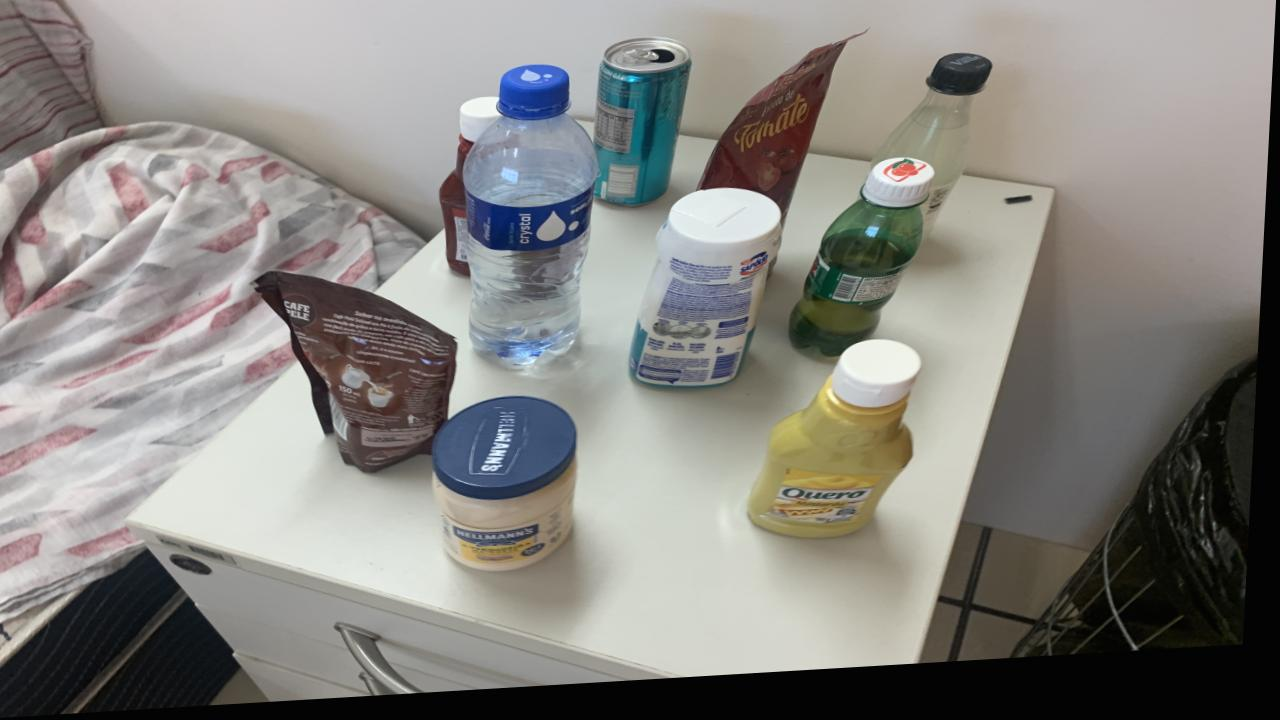Cleaner-Cleanup_Items: (633, 198, 782, 399)
Coffee-Pantry_Items: (258, 275, 460, 477)
Guarana-Drinks: (794, 169, 938, 367)
Ketchup-Pantry_Items: (441, 103, 502, 281)
Mayonnaise-Pantry_Items: (438, 402, 582, 578)
Mustard-Pantry_Items: (752, 350, 926, 549)
Soda-Drinks: (874, 65, 993, 249)
Tea-Drinks: (595, 46, 693, 214)
Tomato_Sauce-Pantry_Items: (701, 50, 849, 235)
Water_Bottle-Drinks: (466, 71, 600, 373)
